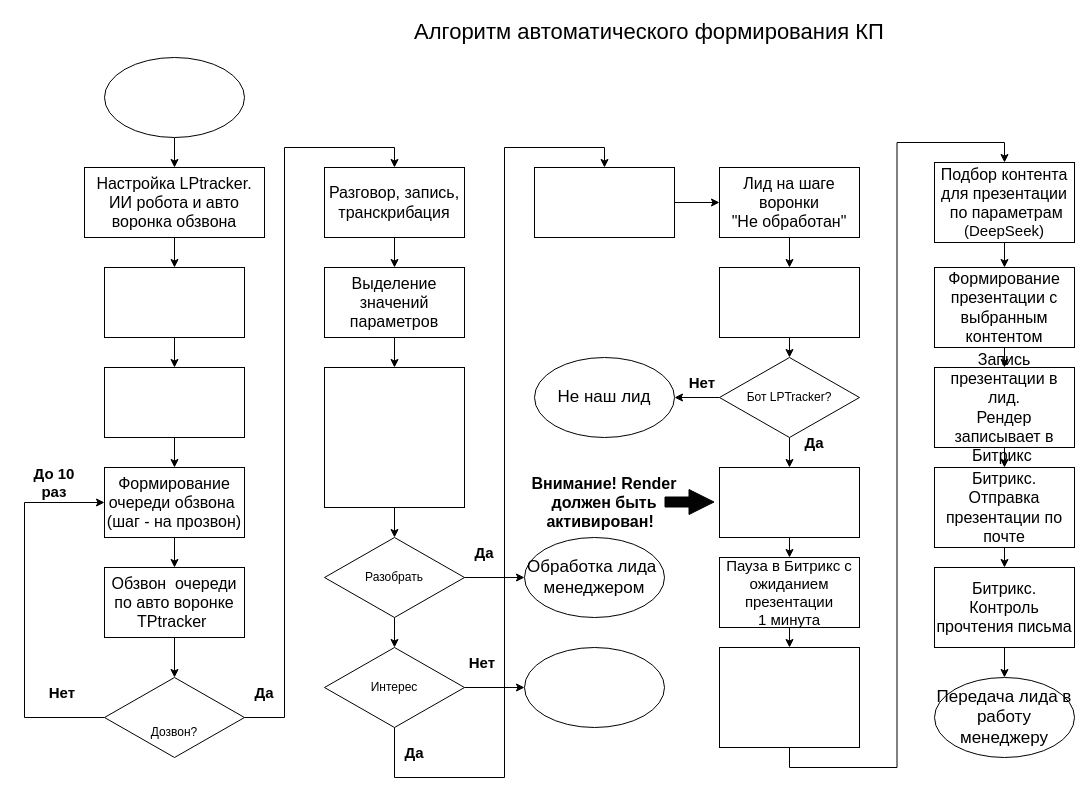
This 1092x803 diagram has some shape labels left out. The shapes that lost their labels are listed below. From the top down, each one's centre as x and y in pixels, then its label:
(x=174, y=97): Начало
(x=604, y=202): Экспорт Лида в Битрикс (входящий хук)
(x=174, y=302): Формирование списка обзвона
(x=789, y=302): Битрикс. Запуск робота этого шага воронки лидов
(x=174, y=402): Закачка (импорт) списка в LPtracker (шаг - новый лид)
(x=394, y=437): Квалификация разговора - интерес - отказ - автоответчик - разобрать
(x=789, y=502): Исх. хук из Битрикс в Render с ID лида
(x=594, y=687): Конец обработки лида
(x=789, y=697): Render запрашивает у Битрикс параметры лида (входящий вебхук)
